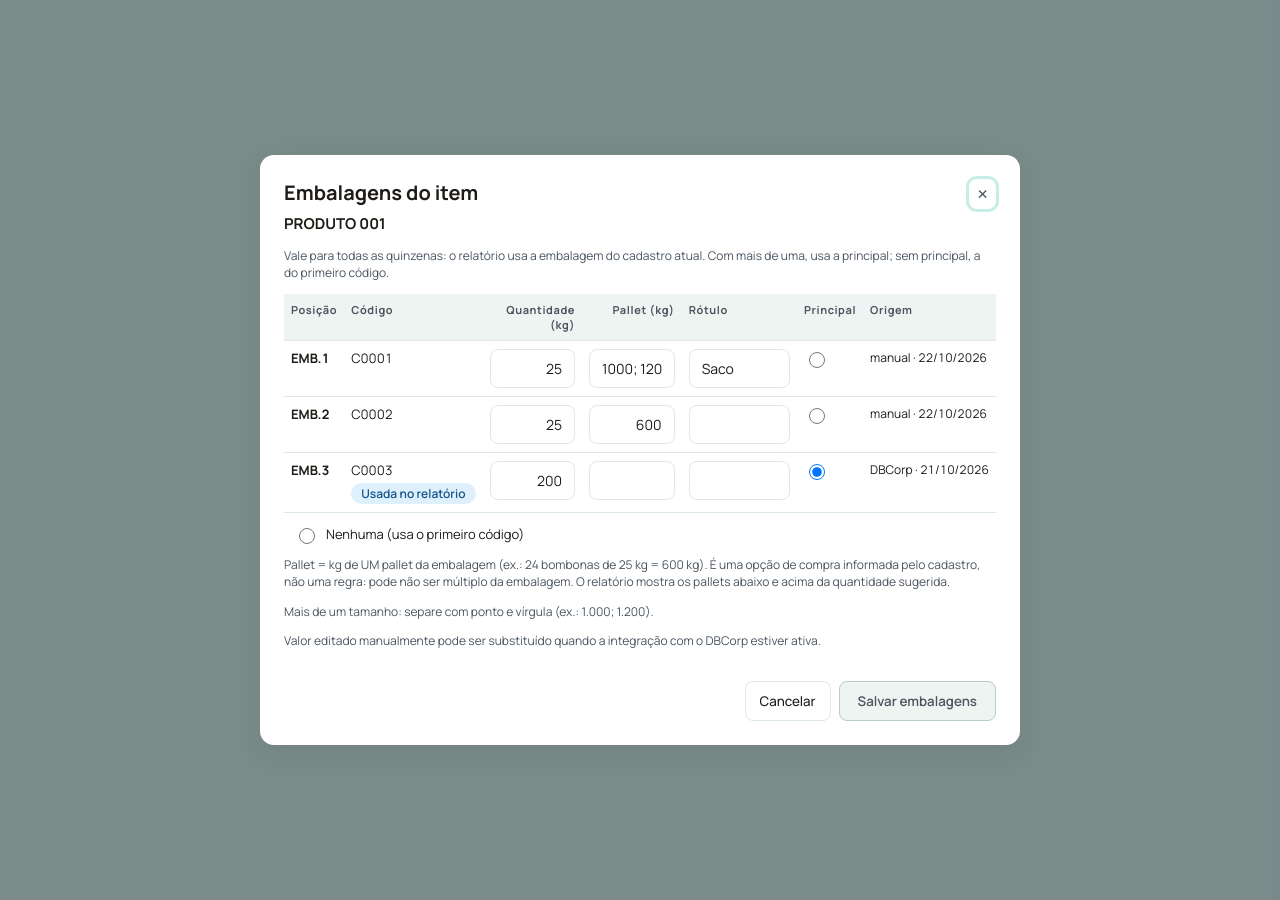
Test case: ForecastEmbalagensModal - varios tamanhos de pallet (Etapa B) › aviso de nao multiplo e por tamanho (nao bloqueia o Salvar)
Check: the text "PRODUTO 001" is shown, box [284, 213, 386, 235]
Replace the text in the field named "Pallet em kg do código C0001" with "1000; 1210" at (632, 368), box [589, 349, 675, 388]
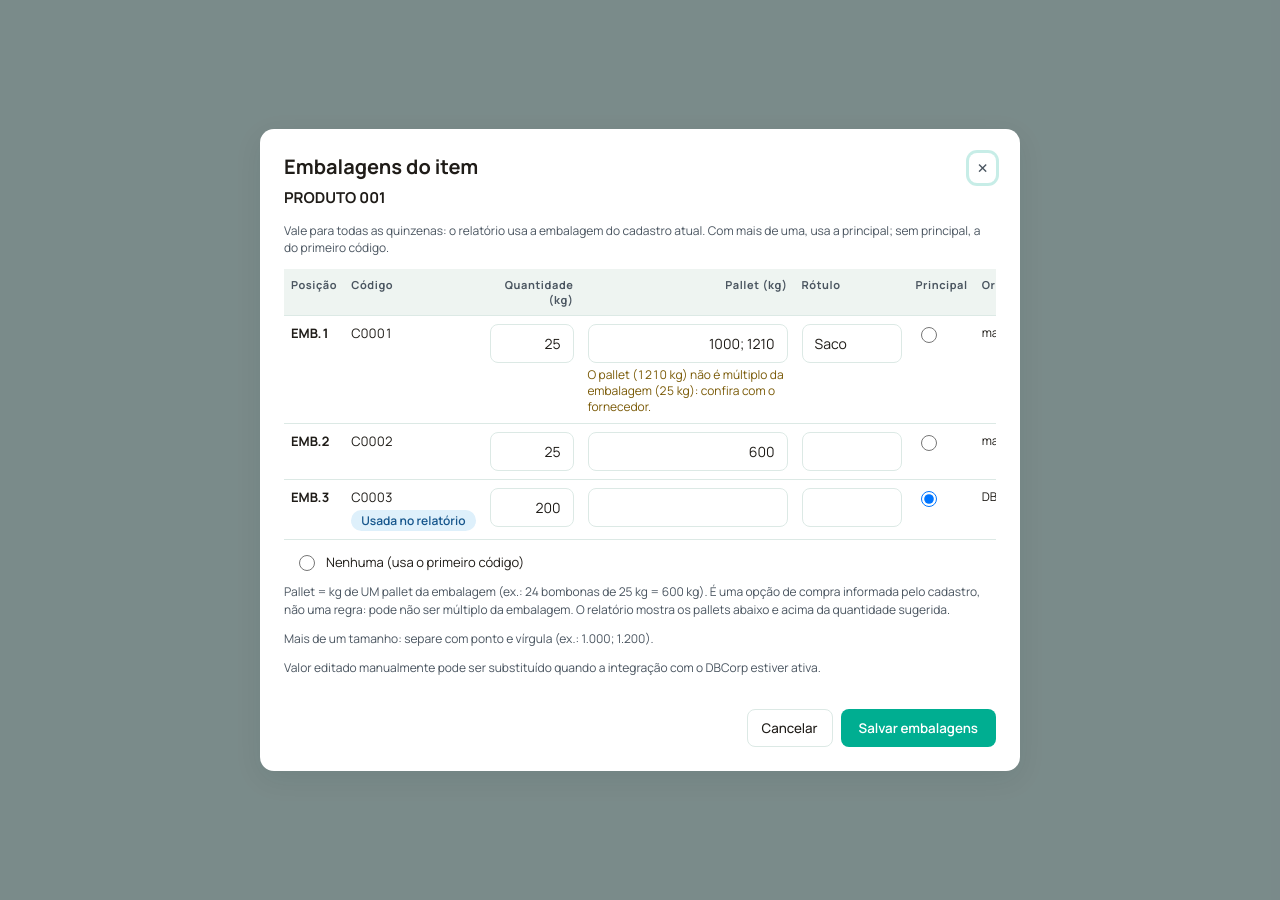
Check: the text "O pallet (1210 kg) não é múltiplo da embalagem (25 kg): confira com o fornecedor." is shown, box [588, 366, 784, 415]
Check: the button "Salvar embalagens" is enabled, box [841, 709, 996, 747]
